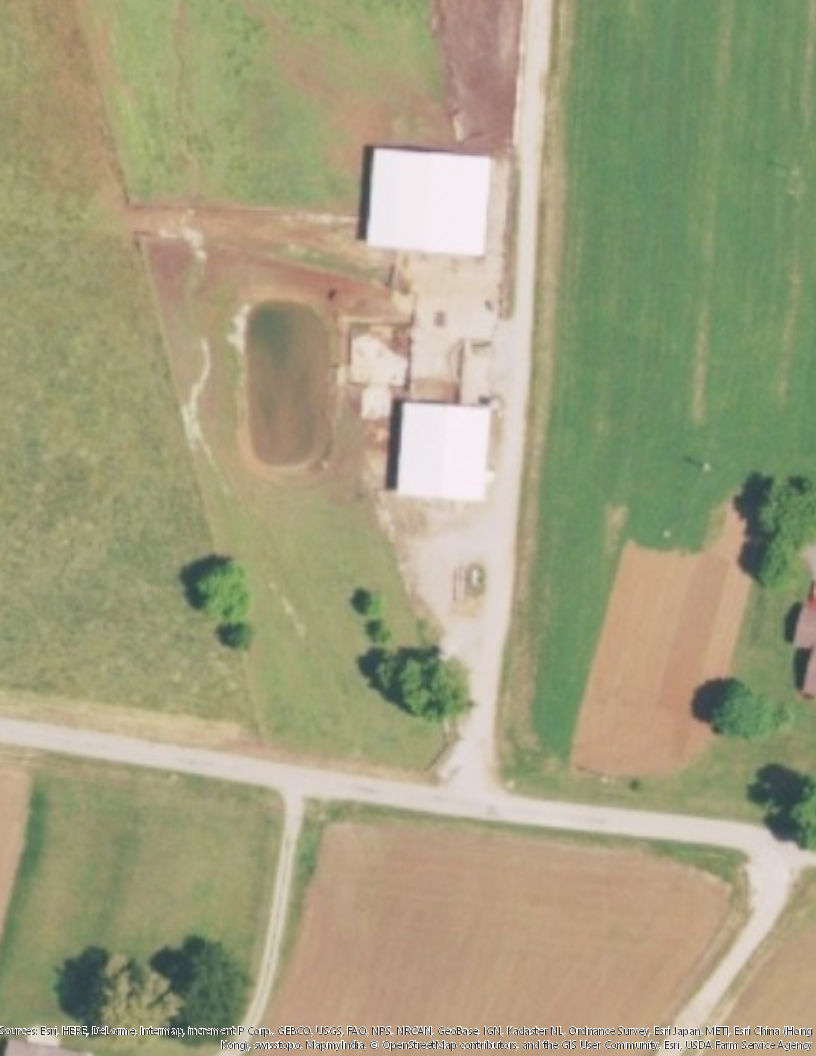cafo: (358, 141, 507, 260), (371, 388, 511, 511)
